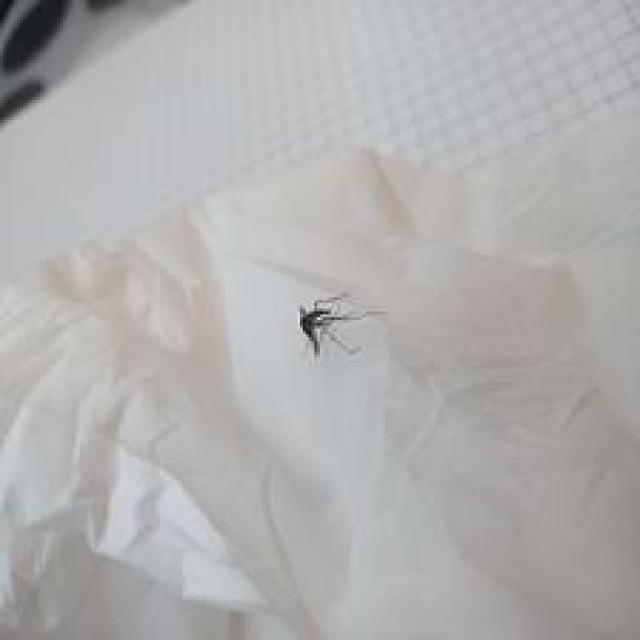Aedes albopictus: (296, 290, 387, 359)
